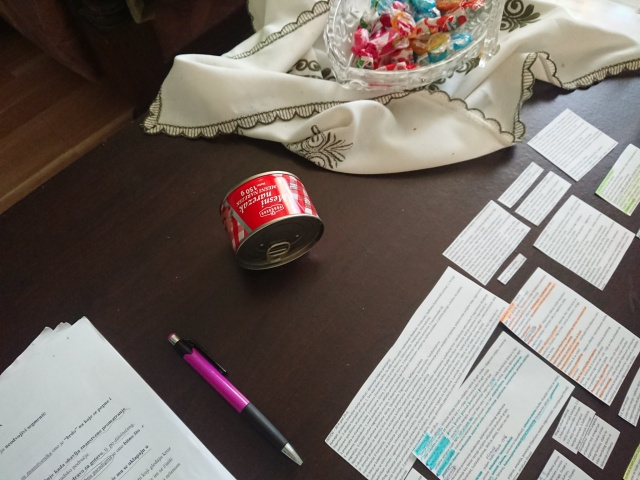Podravka Luncheon Meat 150g: (217, 168, 327, 274)
